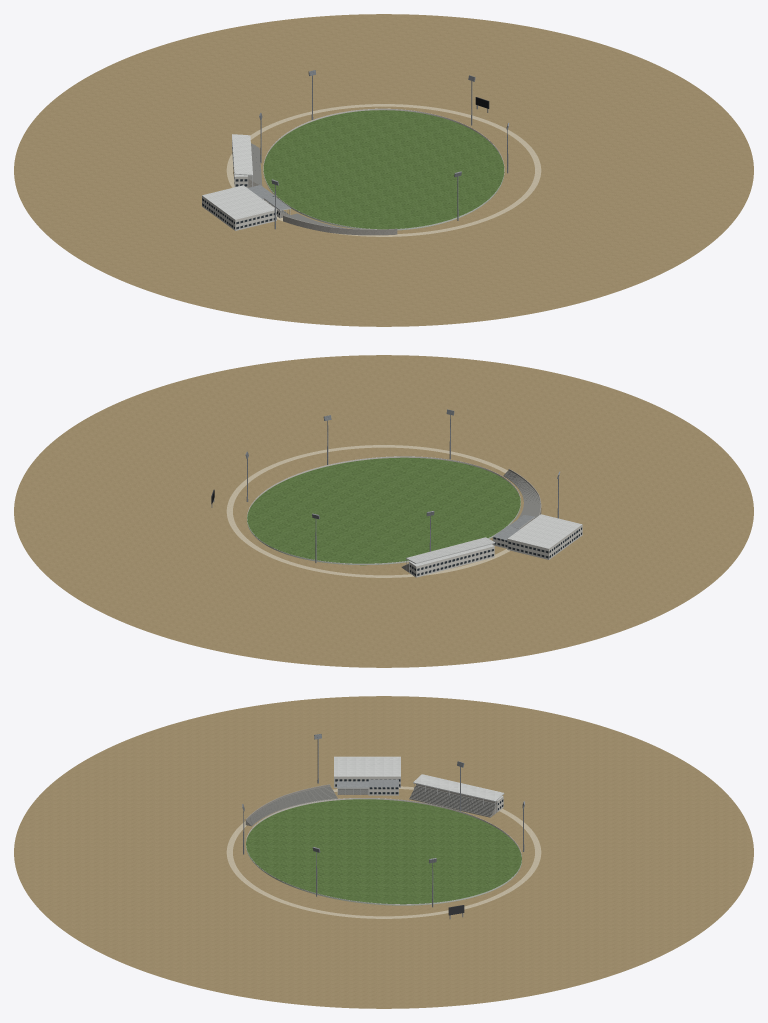
The model's file is hands.glb.
3 renders of one model, top to bottom at view 1: azimuth 30°, elevation 25°; view 2: azimuth 150°, elevation 25°; view 3: azimuth 270°, elevation 25°, orthographic.
Visible parts, largest first — view 1: concourse, extras, stands, fence, roofs, towers; view 2: concourse, extras, fence, roofs, stands, towers; view 3: concourse, stands, extras, roofs, fence, towers.
Part boxes in pixels (bbox=[...]): concourse: bbox=[14, 14, 753, 326]; extras: bbox=[202, 97, 489, 230]; stands: bbox=[248, 143, 397, 235]; fence: bbox=[263, 108, 504, 230]; roofs: bbox=[232, 134, 290, 217]; towers: bbox=[259, 70, 509, 229]; concourse: bbox=[14, 355, 753, 667]; extras: bbox=[211, 489, 582, 577]; fence: bbox=[247, 456, 520, 564]; roofs: bbox=[406, 515, 534, 572]; stands: bbox=[401, 469, 541, 572]; towers: bbox=[245, 409, 560, 562]; concourse: bbox=[14, 696, 753, 1008]; stands: bbox=[245, 784, 496, 826]; extras: bbox=[334, 756, 503, 919]; roofs: bbox=[337, 774, 504, 813]; fence: bbox=[246, 798, 521, 905]; towers: bbox=[242, 734, 524, 907].
Size of the model in its own units: 480 by 34.95 by 480.
17 materials, 17 textured.
